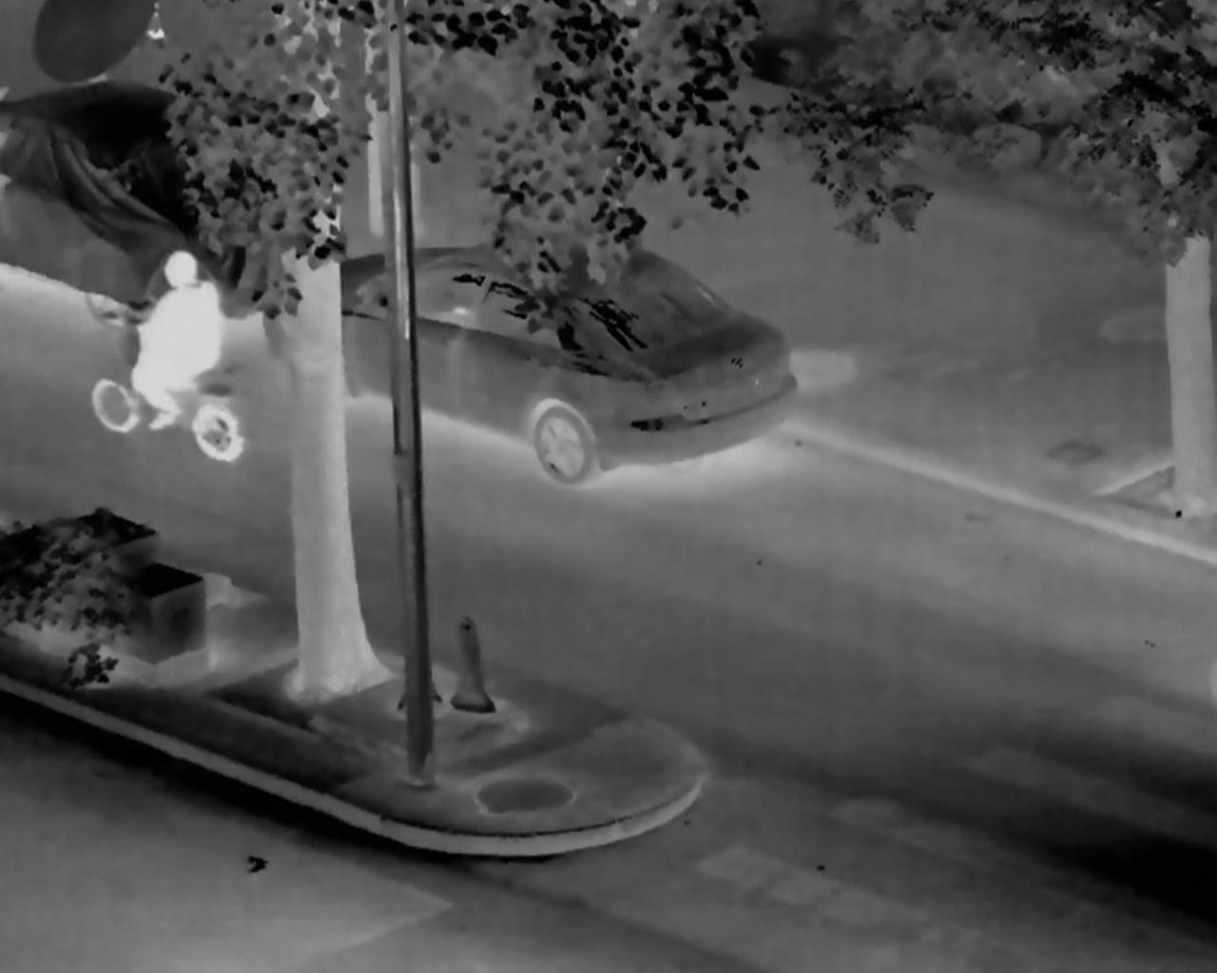person: (128, 250, 222, 430)
